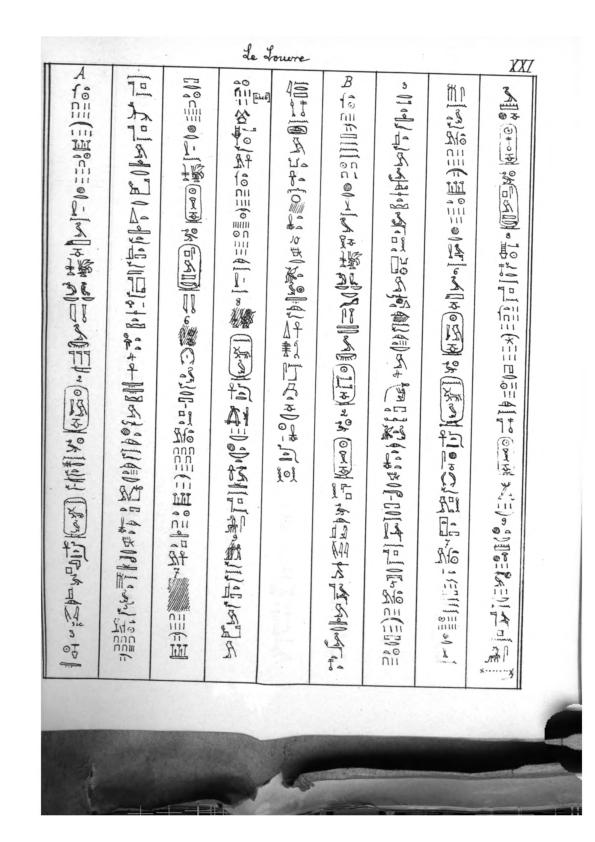circle: (61, 385, 91, 435), (175, 243, 203, 292), (227, 333, 255, 382), (439, 375, 464, 428), (497, 182, 522, 231), (331, 363, 358, 408), (62, 495, 89, 540), (330, 435, 356, 481), (440, 310, 465, 357), (496, 122, 521, 168), (494, 435, 520, 479), (182, 182, 206, 225)
